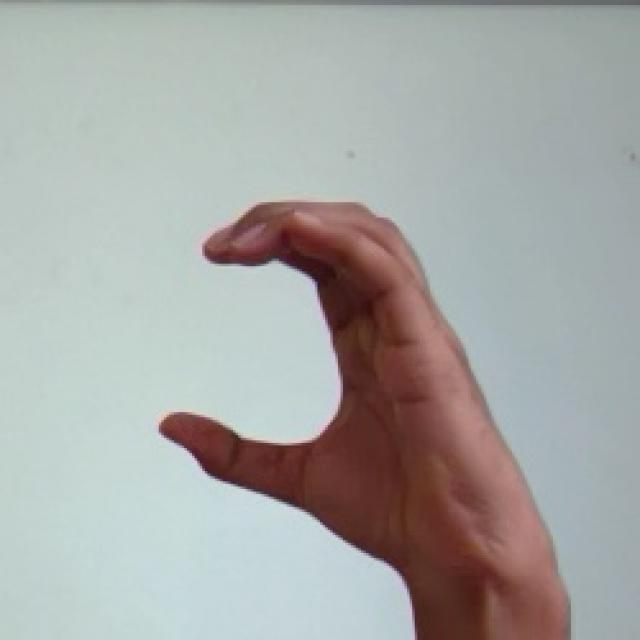Alphabet-C: (161, 202, 571, 640)
